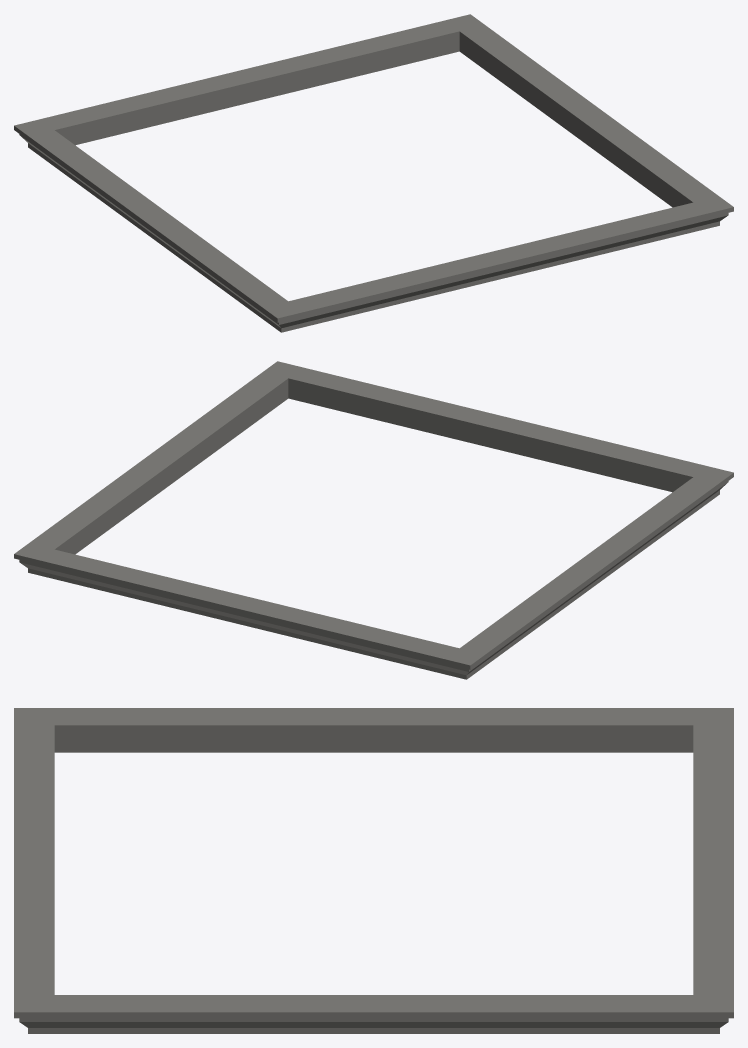
File: SM_Bldg_City_High-Rise_04_05_Cornice_02.fbx
3 renders of one model, top to bottom at view 1: azimuth 30°, elevation 25°; view 2: azimuth 150°, elevation 25°; view 3: azimuth 270°, elevation 25°, orthographic. The views are drawn at different scales.
Visible parts, largest first — view 1: SM_Bldg_City_High-Rise_04&05_Cornice_02; view 2: SM_Bldg_City_High-Rise_04&05_Cornice_02; view 3: SM_Bldg_City_High-Rise_04&05_Cornice_02.
Boxes of the visible parts, box(x1,y1,x2,y2) form: SM_Bldg_City_High-Rise_04&05_Cornice_02: box(14, 14, 733, 332); SM_Bldg_City_High-Rise_04&05_Cornice_02: box(14, 361, 733, 679); SM_Bldg_City_High-Rise_04&05_Cornice_02: box(14, 708, 733, 1033).
Size of the model in its own units: 1082 by 45.75 by 1082.
